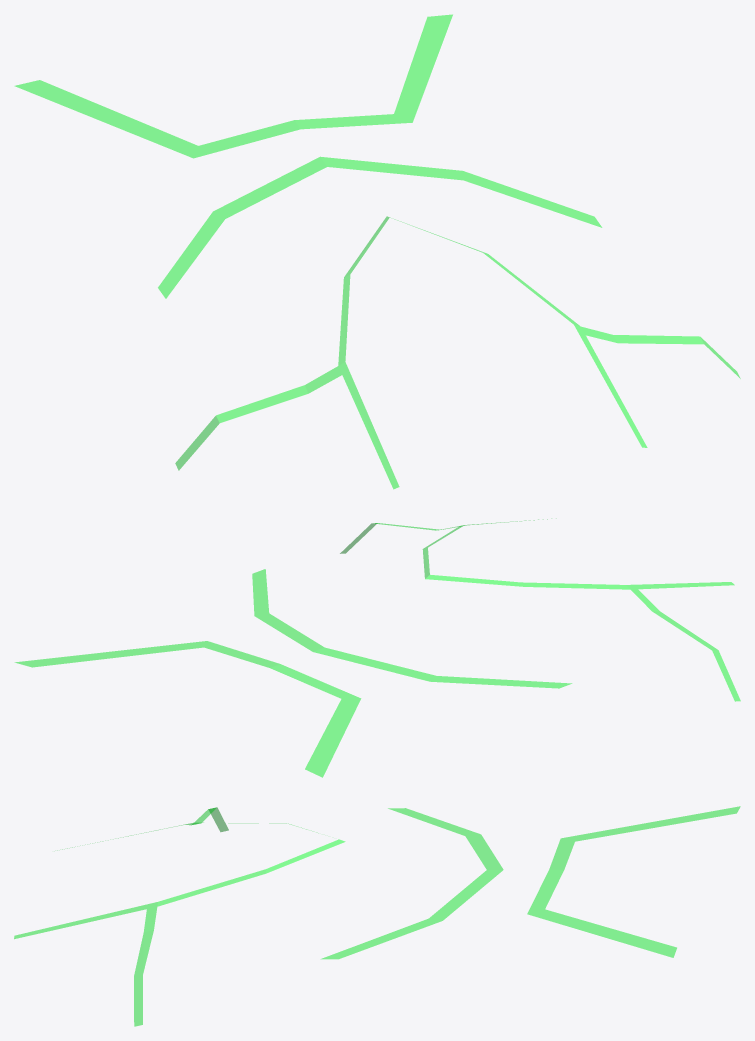
Rendered from ZXWm_052_artillery_t1_buff03.FBX.
3 renders of one model, top to bottom at view 1: azimuth 30°, elevation 25°; view 2: azimuth 150°, elevation 25°; view 3: azimuth 270°, elevation 25°, orthographic. The views are drawn at different scales.
Parts seen in each view (by area): view 1: BUFF_03; view 2: BUFF_03; view 3: BUFF_03.
Part boxes in pixels (x1,y1,x2,y2): BUFF_03: (15, 14, 740, 489); BUFF_03: (15, 519, 740, 777); BUFF_03: (14, 806, 740, 1026).
Size of the model in its own units: 89.62 by 20.05 by 126.
